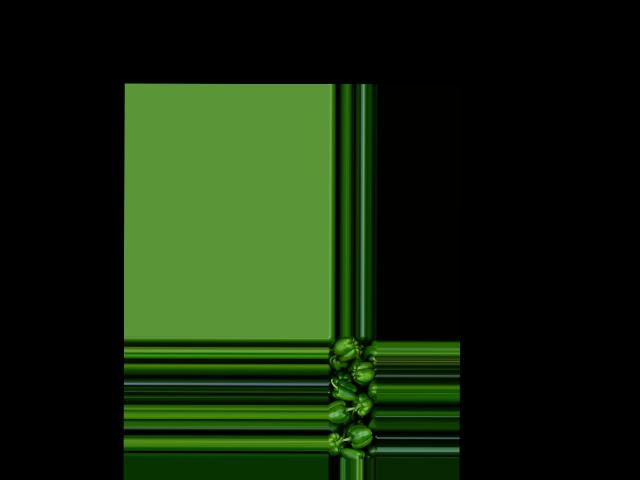bell_pepper: (329, 336, 377, 457)
